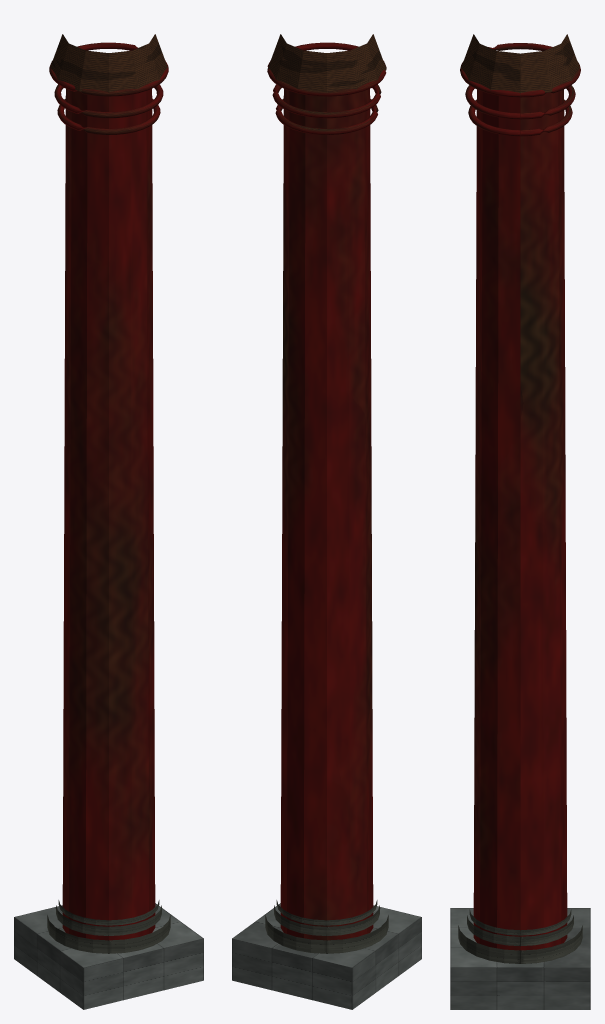
The model's file is pillar.glb.
3 views of the same model, side by side, from view 1: azimuth 30°, elevation 25°; view 2: azimuth 150°, elevation 25°; view 3: azimuth 270°, elevation 25° (orthographic).
Parts seen in each view (by area): view 1: Shaft, Base, Cap, Art_StoneLedge, Art_BurntLacquer; view 2: Shaft, Base, Cap, Art_StoneLedge, Art_BurntLacquer; view 3: Shaft, Base, Cap, Art_StoneLedge, Art_BurntLacquer.
Boxes of the visible parts, x1,y1,x2,y2 form: Shaft: [62, 88, 155, 940]; Base: [14, 903, 203, 1009]; Cap: [50, 34, 167, 92]; Art_StoneLedge: [47, 900, 170, 953]; Art_BurntLacquer: [49, 42, 168, 134]; Shaft: [280, 88, 373, 940]; Base: [232, 903, 421, 1009]; Cap: [267, 34, 386, 92]; Art_StoneLedge: [265, 900, 388, 953]; Art_BurntLacquer: [267, 42, 386, 134]; Shaft: [473, 89, 567, 950]; Base: [450, 908, 590, 1009]; Cap: [461, 34, 579, 95]; Art_StoneLedge: [458, 909, 582, 963]; Art_BurntLacquer: [460, 43, 580, 136].
Size of what is drawn, in the model's own units: 0.42 by 3.12 by 0.42.
5 materials, 5 textured.
